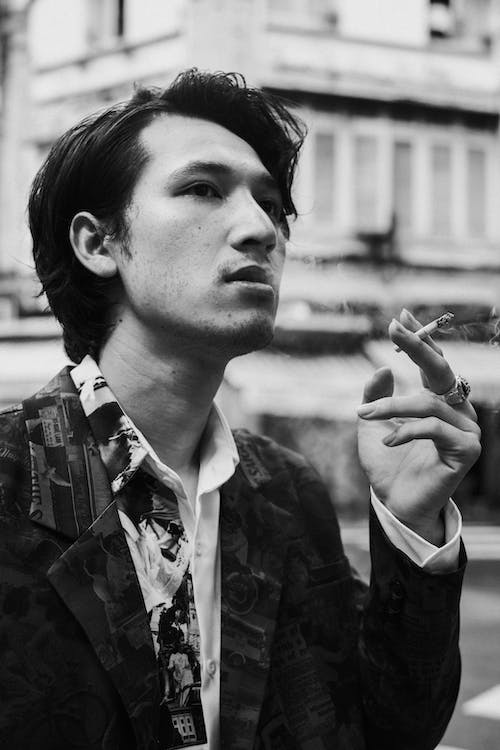cigarette: (391, 311, 457, 356)
